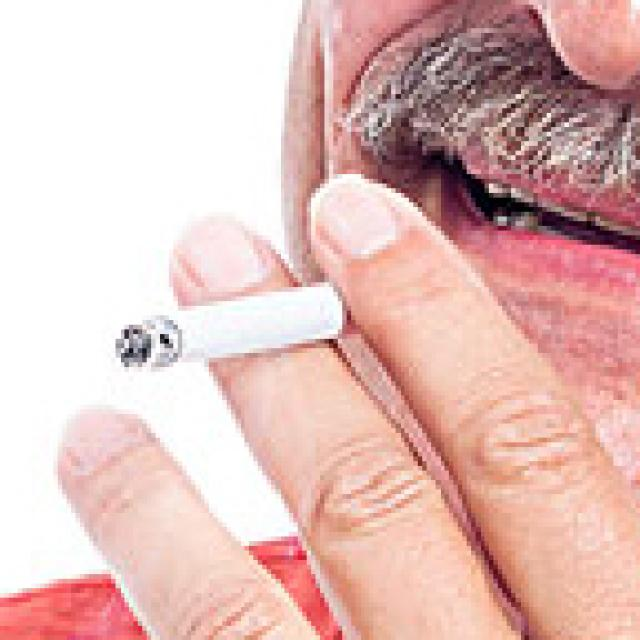smoking: (108, 284, 364, 376)
